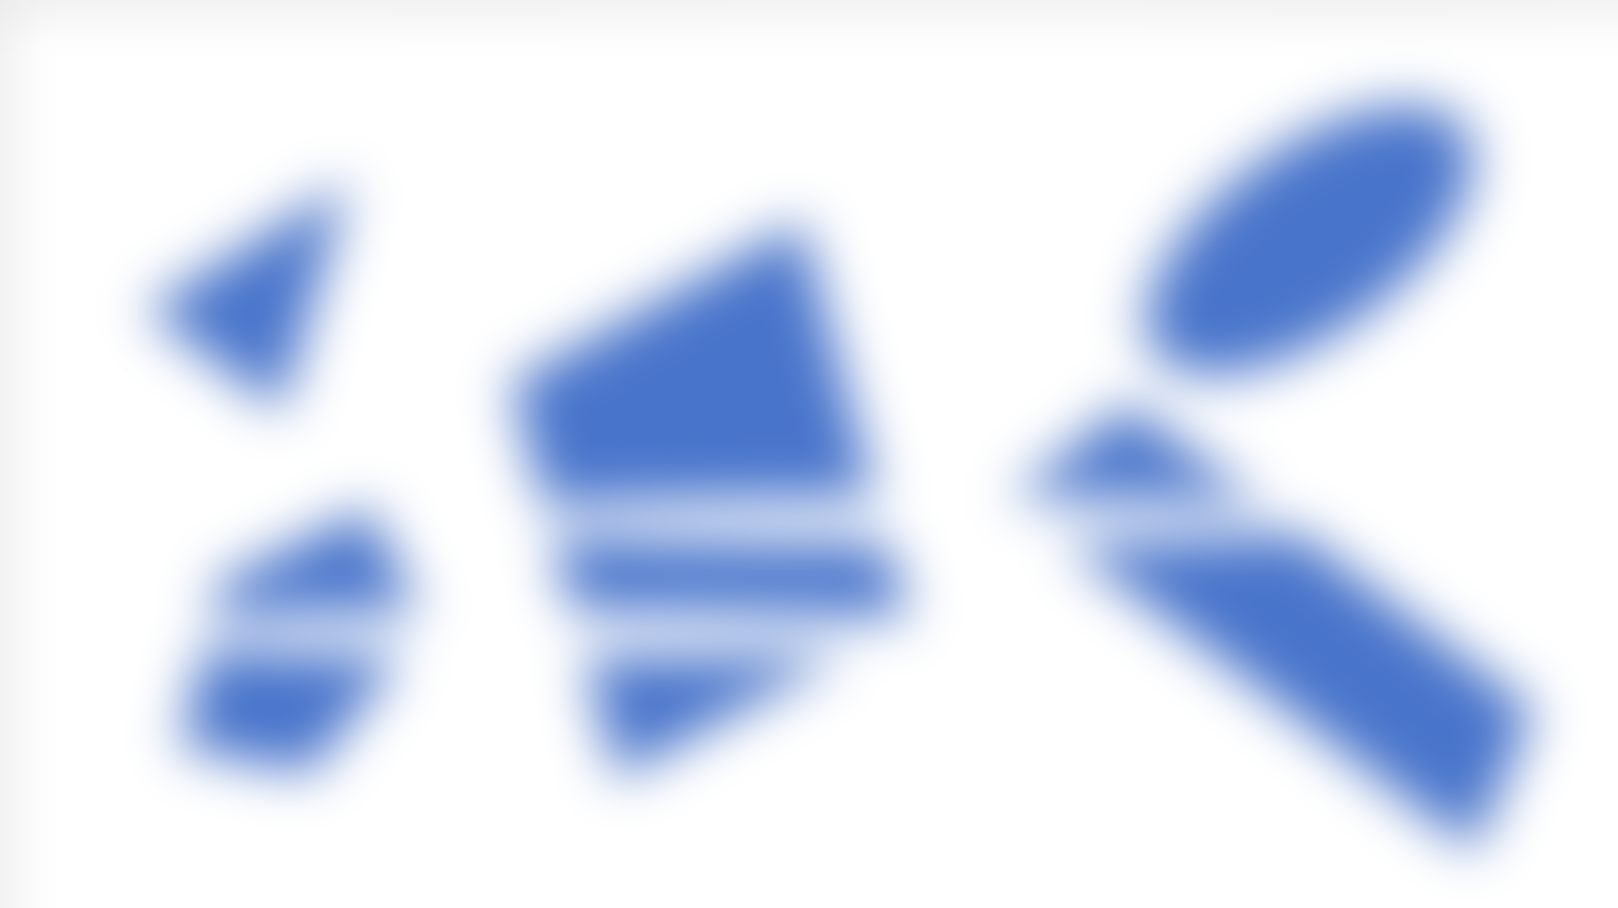circle: (1123, 67, 1524, 365)
parallelogram: (480, 226, 958, 764)
pentagon: (177, 492, 442, 788)
trapezium: (1018, 407, 1604, 902)
triangle: (130, 182, 390, 407)
